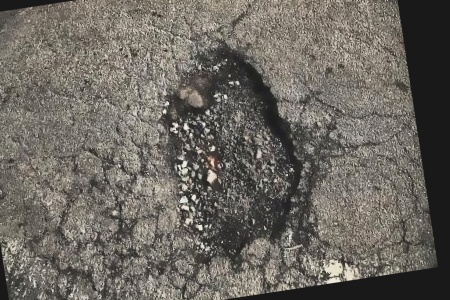pothole: (141, 30, 328, 266)
